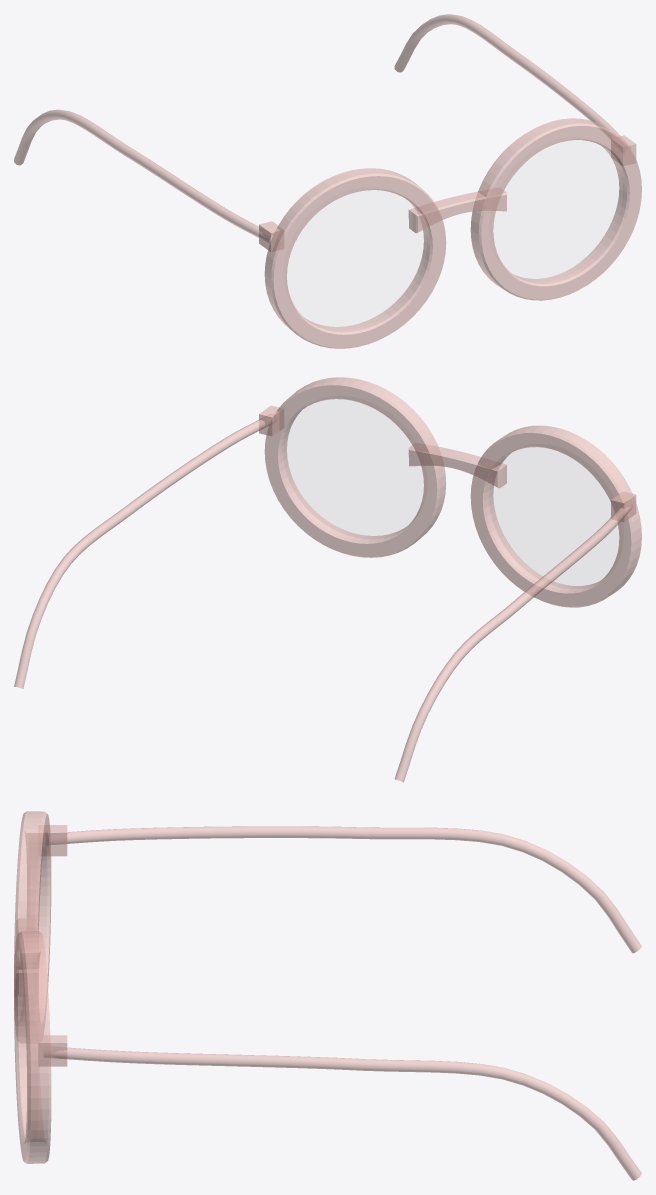
The model's file is NY-W02_Nila_Blush_crystal.glb.
The picture shows the model from 3 angles, top to bottom: view 1: azimuth 30°, elevation 25°; view 2: azimuth 150°, elevation 25°; view 3: azimuth 270°, elevation 25°; orthographic projection. The views are drawn at different scales.
Parts seen in each view (by area): view 1: Nila_Blush_crystal_Acetate, Nila_Blush_crystal_Lenses; view 2: Nila_Blush_crystal_Acetate, Nila_Blush_crystal_Lenses; view 3: Nila_Blush_crystal_Acetate.
Boxes of the visible parts, x1,y1,x2,y2 form: Nila_Blush_crystal_Acetate: (14,14,641,348); Nila_Blush_crystal_Lenses: (287,140,622,328); Nila_Blush_crystal_Acetate: (14,377,641,782); Nila_Blush_crystal_Lenses: (284,399,618,587); Nila_Blush_crystal_Acetate: (14,811,641,1180).
Bounding box in the file's own units: 0.1354 × 0.0554 × 0.1506.
